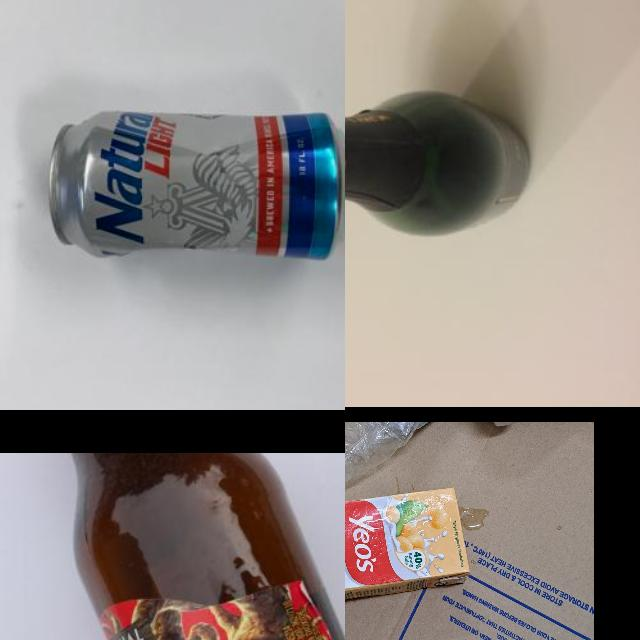caixinha: (345, 485, 471, 609)
garrafa de vidro: (69, 452, 345, 640), (345, 90, 532, 234)
garrafa plástica: (345, 422, 459, 483)
lata: (45, 108, 345, 261)
papelão: (345, 422, 593, 640)
